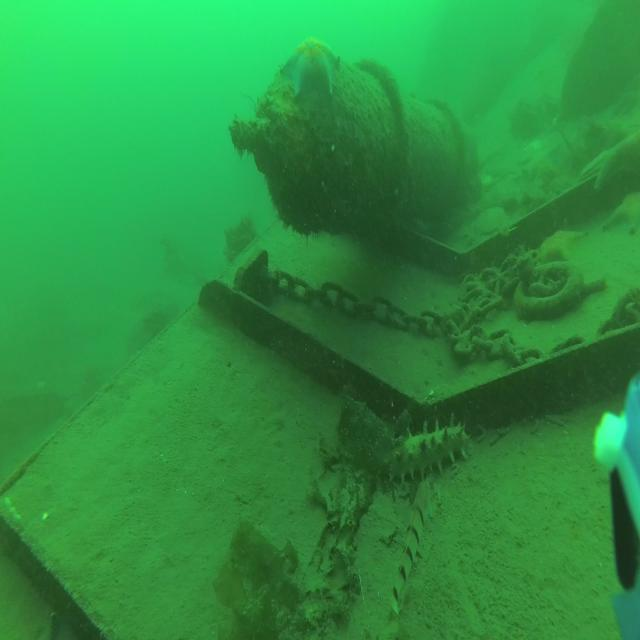holothurian: (384, 414, 474, 485)
scallop: (475, 207, 506, 233)
starfish: (279, 35, 340, 98), (580, 140, 639, 193), (539, 228, 589, 263), (605, 190, 640, 232), (525, 148, 559, 185)
